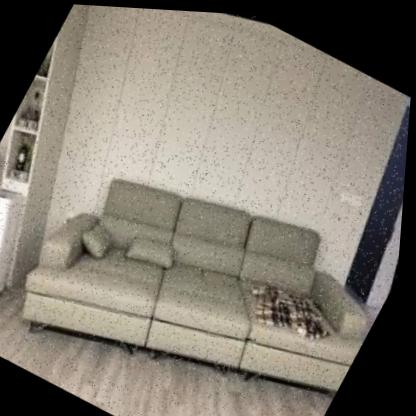Sofa: (0, 111, 410, 416)
